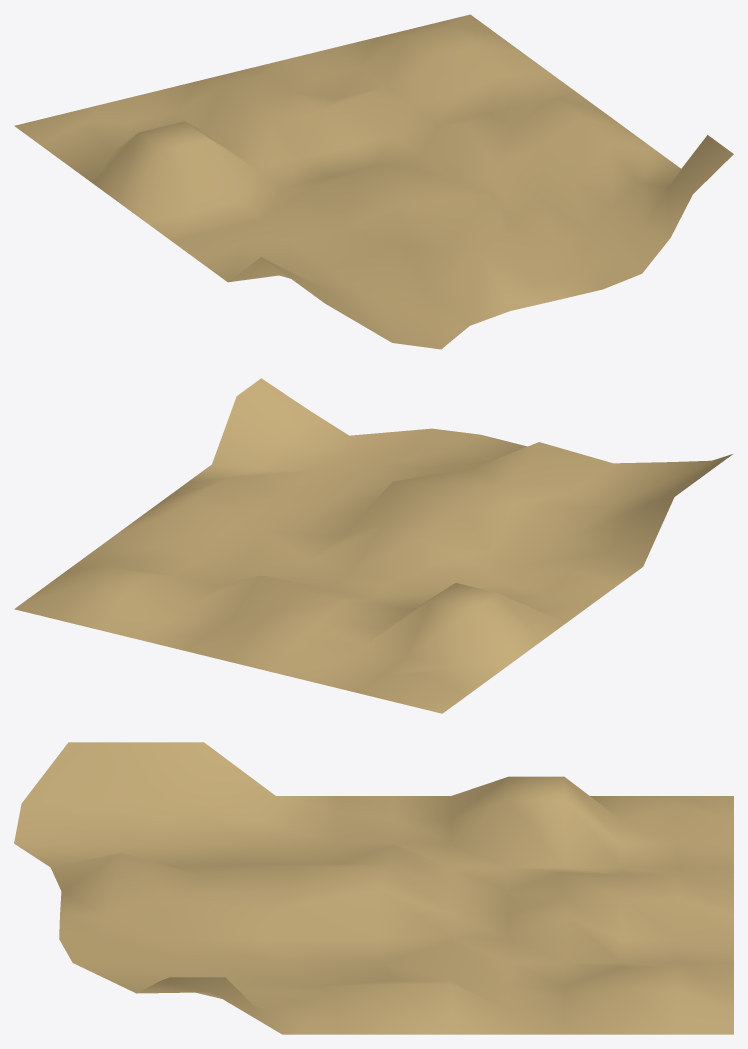
Rendered from terrain.fbx.
3 views of the same model, one above another, from view 1: azimuth 30°, elevation 25°; view 2: azimuth 150°, elevation 25°; view 3: azimuth 270°, elevation 25° (orthographic). The views are drawn at different scales.
Parts seen in each view (by area): view 1: polySurface35; view 2: polySurface35; view 3: polySurface35.
Part boxes in pixels (x1=…): polySurface35: x1=14, y1=14, x2=733, y2=349; polySurface35: x1=14, y1=378, x2=732, y2=713; polySurface35: x1=14, y1=742, x2=733, y2=1034.
Size of the model in its own units: 578 by 64.43 by 737.
